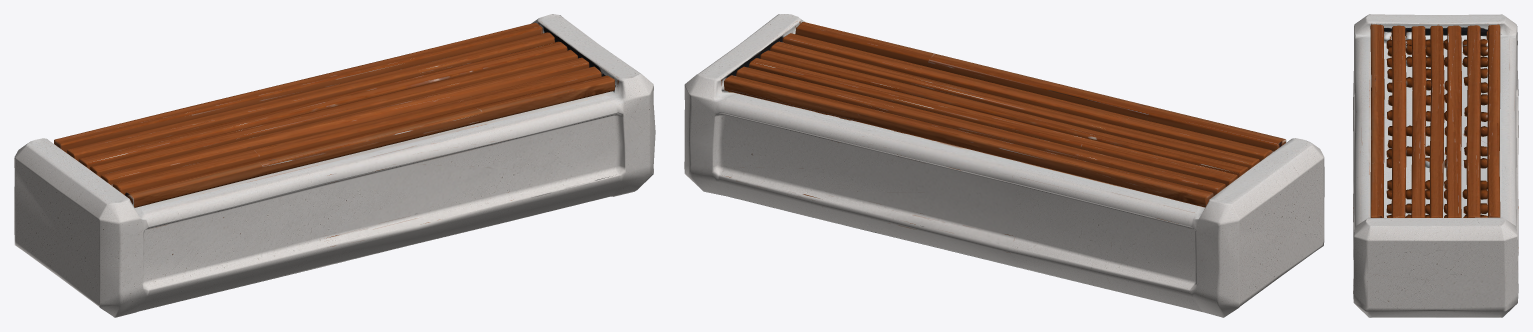
Rendered from meshy-t2.glb.
The picture shows the model from 3 angles, left to right: view 1: azimuth 30°, elevation 25°; view 2: azimuth 150°, elevation 25°; view 3: azimuth 270°, elevation 25°; orthographic projection. The views are drawn at different scales.
Bounding box in the file's own units: 1 × 0.2025 × 0.319.
1 material, 1 textured.
